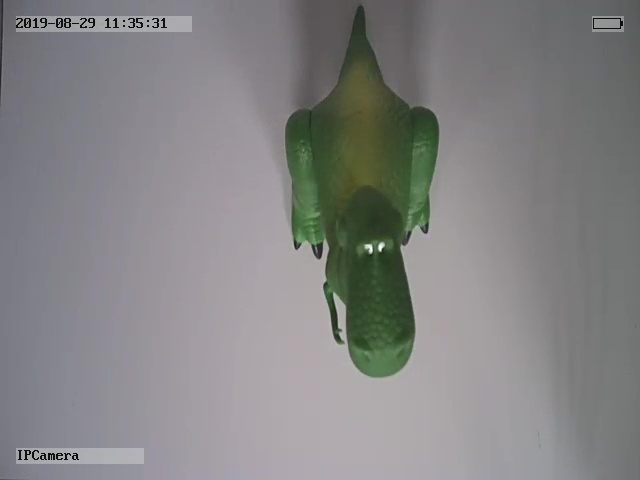rex: (283, 2, 439, 377)
